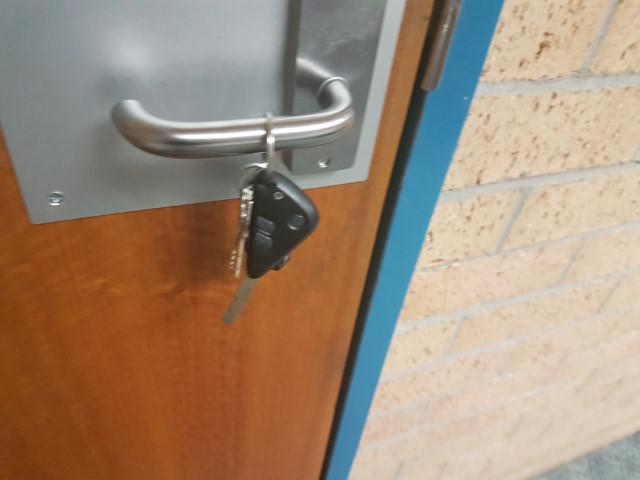key: (223, 172, 319, 324)
